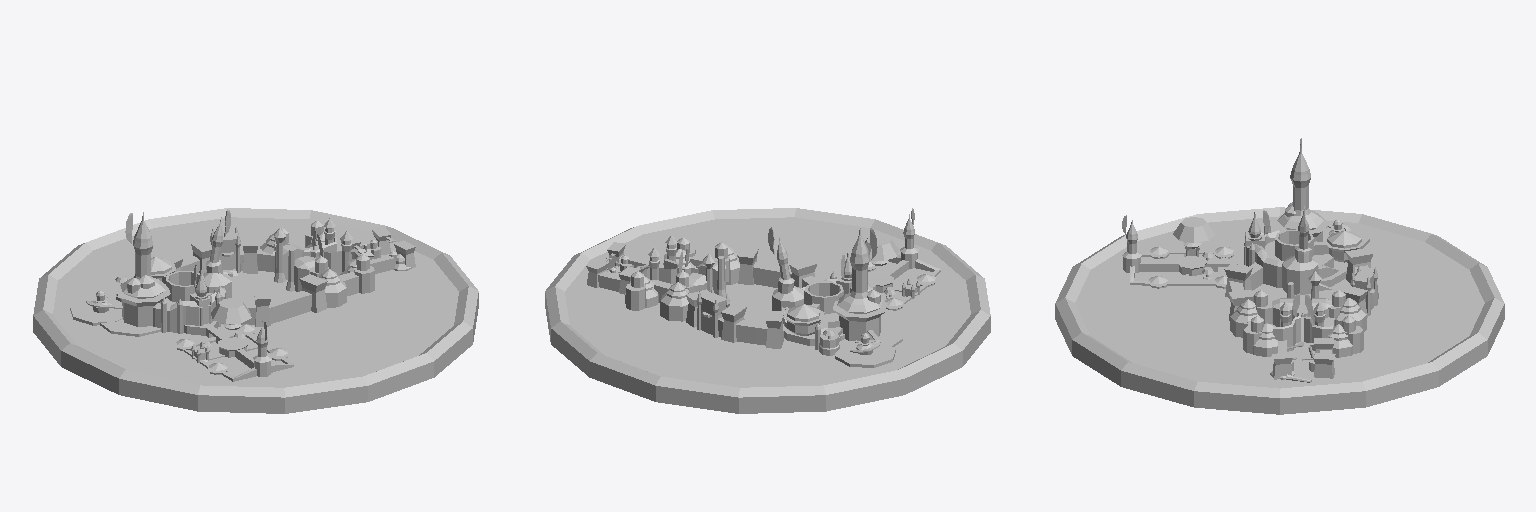
The model's file is sunwell.obj.
The picture shows the model from 3 angles: view 1: azimuth 30°, elevation 25°; view 2: azimuth 150°, elevation 25°; view 3: azimuth 270°, elevation 25°; orthographic projection.
Parts seen in each view (by area): view 1: World_Expansion01_doodads_sunwell_passivedoodads_sunwell_su.000, World_Expansion01_doodads_sunwell_passivedoodads_sunwell_sunwel, World_Expansion01_doodads_sunwell_passivedoodads_sunwell_su.002; view 2: World_Expansion01_doodads_sunwell_passivedoodads_sunwell_su.000, World_Expansion01_doodads_sunwell_passivedoodads_sunwell_sunwel, World_Expansion01_doodads_sunwell_passivedoodads_sunwell_su.002; view 3: World_Expansion01_doodads_sunwell_passivedoodads_sunwell_su.000, World_Expansion01_doodads_sunwell_passivedoodads_sunwell_sunwel, World_Expansion01_doodads_sunwell_passivedoodads_sunwell_su.002.
Boxes of the visible parts, x1,y1,x2,y2 form: World_Expansion01_doodads_sunwell_passivedoodads_sunwell_su.000: [53, 209, 458, 387]; World_Expansion01_doodads_sunwell_passivedoodads_sunwell_sunwel: [33, 208, 478, 413]; World_Expansion01_doodads_sunwell_passivedoodads_sunwell_su.002: [87, 221, 415, 358]; World_Expansion01_doodads_sunwell_passivedoodads_sunwell_su.000: [565, 208, 970, 387]; World_Expansion01_doodads_sunwell_passivedoodads_sunwell_sunwel: [545, 208, 990, 413]; World_Expansion01_doodads_sunwell_passivedoodads_sunwell_su.002: [586, 237, 917, 351]; World_Expansion01_doodads_sunwell_passivedoodads_sunwell_su.000: [1075, 206, 1484, 388]; World_Expansion01_doodads_sunwell_passivedoodads_sunwell_sunwel: [1055, 138, 1504, 414]; World_Expansion01_doodads_sunwell_passivedoodads_sunwell_su.002: [1224, 223, 1378, 381].
Size of the model in its own units: 4.56 by 1.43 by 4.56.